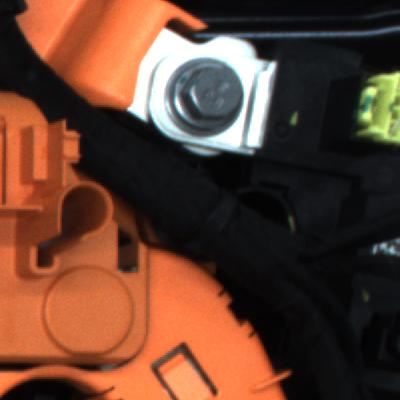nut_b: (160, 58, 251, 127)
